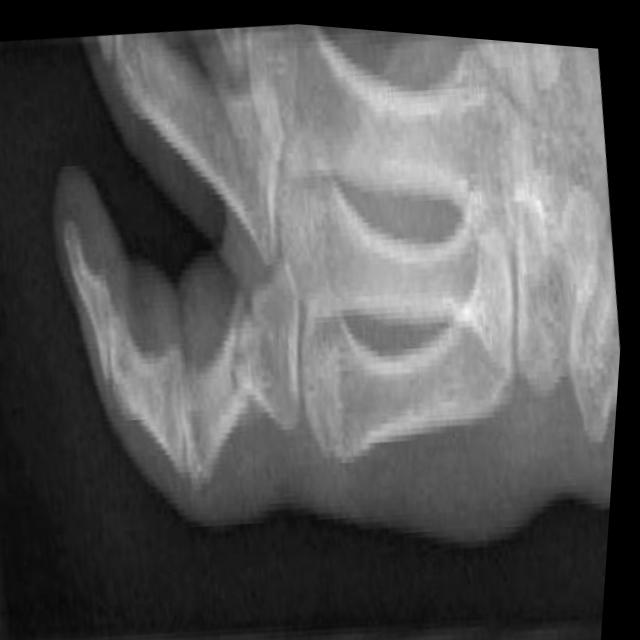fracture: (208, 255, 296, 445)
